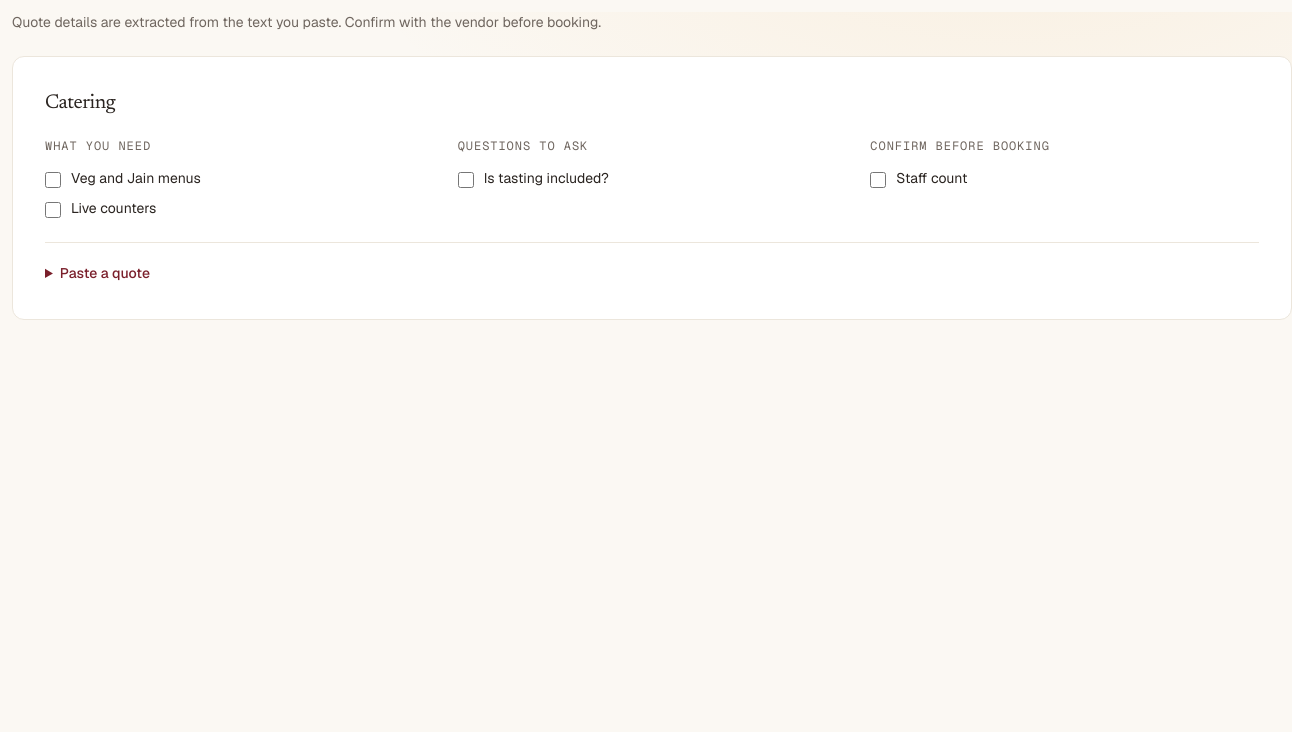
Test: VendorsTab quotes › keeps the pasted text and says what went wrong when extraction fails
Click the heading "Paste a quote" at coordinates (105, 273), box [60, 264, 150, 282]
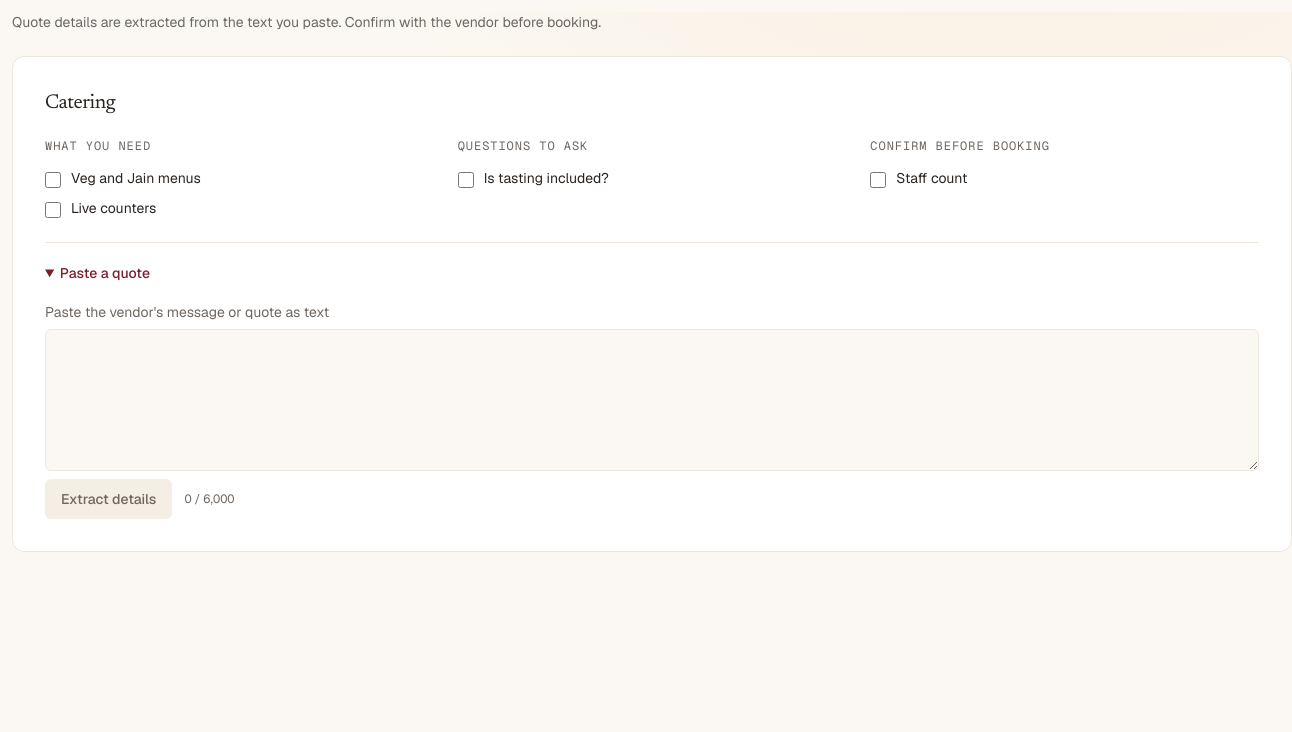
Type "Please call me back about the menu" into the text box labelled "Paste the vendor's message or quote as text" at coordinates (652, 400), box [45, 329, 1259, 471]
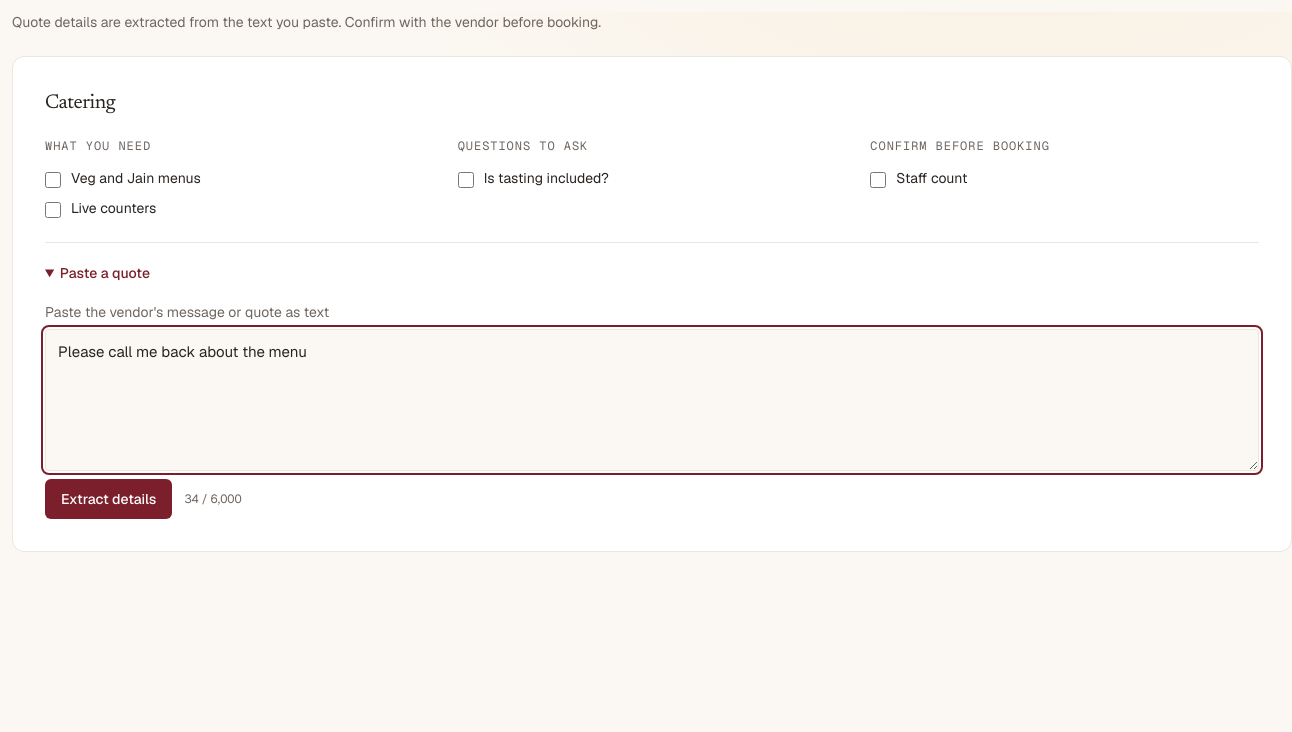
Click the button "Extract details" at coordinates (109, 499), box [45, 479, 172, 519]
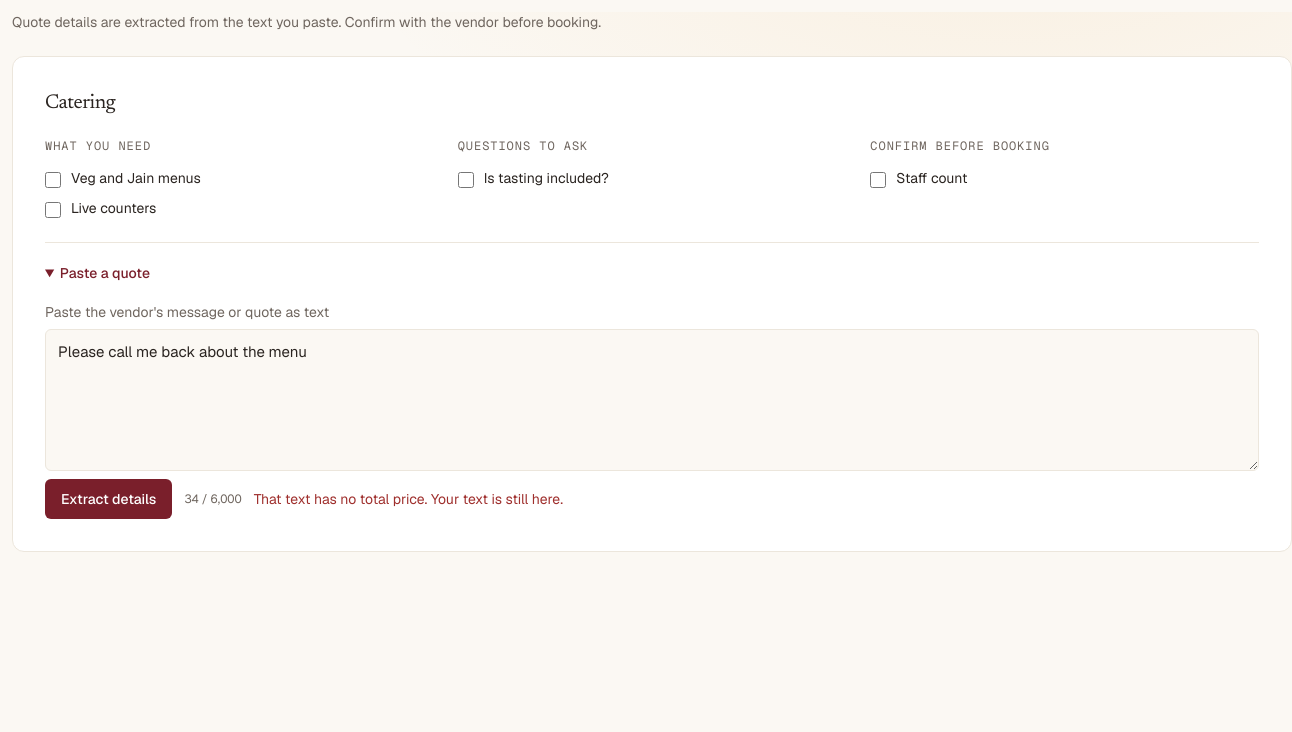
Check: the text "That text has no total price. Your text is still here." is shown, box [254, 489, 563, 509]
